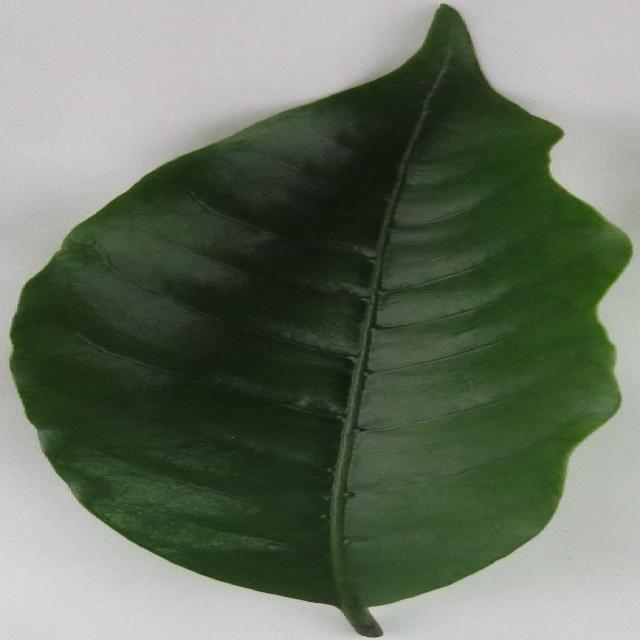DeficienciaNutricional-Calcio: (11, 6, 628, 636)
